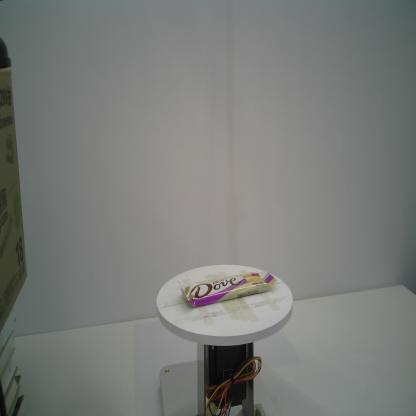Chocolate: (176, 269, 277, 308)
